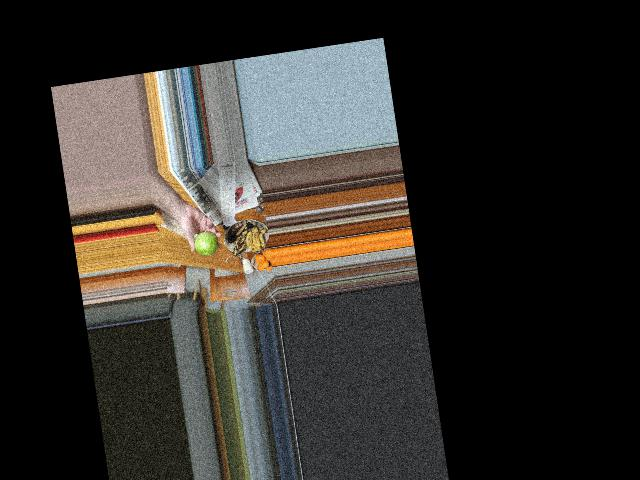apple: (192, 228, 220, 257)
